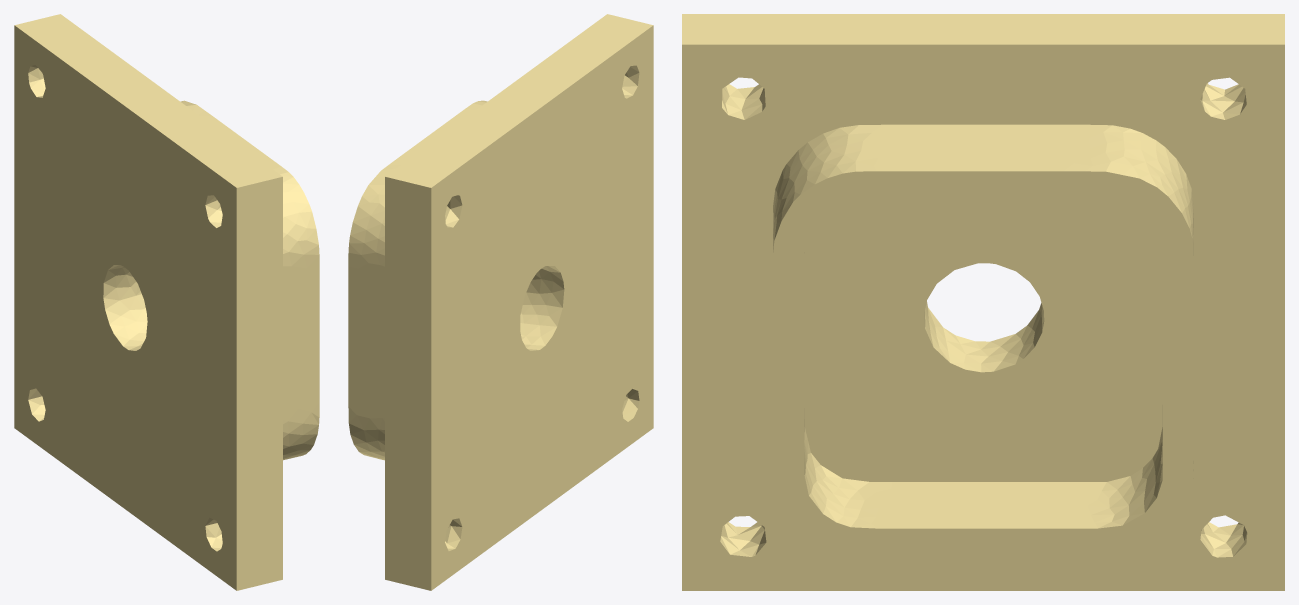
Rendered from input.gltf.
3 renders of one model, left to right at view 1: azimuth 30°, elevation 25°; view 2: azimuth 150°, elevation 25°; view 3: azimuth 270°, elevation 25°, orthographic. The views are drawn at different scales.
Visible parts, largest first — view 1: Renderer Node; view 2: Renderer Node; view 3: Renderer Node.
Boxes of the visible parts, x1,y1,x2,y2 form: Renderer Node: (14, 14, 319, 590); Renderer Node: (348, 14, 653, 590); Renderer Node: (682, 14, 1284, 590).
Bounding box in the file's own units: 0.4531 × 1.5 × 1.5.
